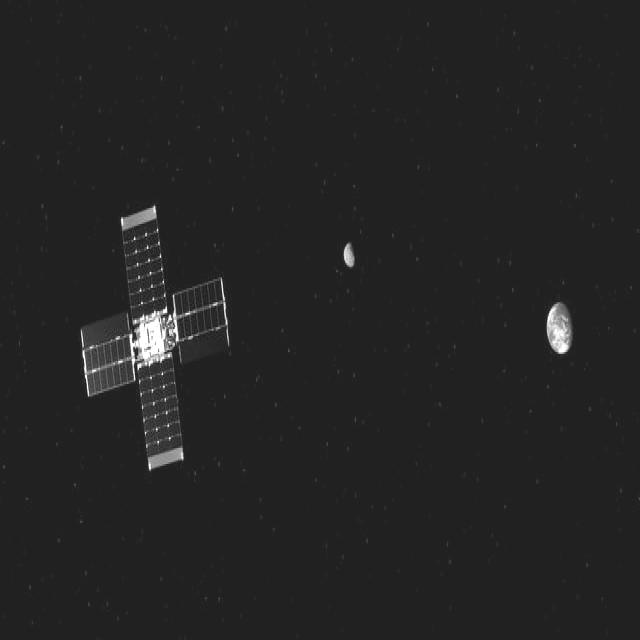satellite: (81, 207, 229, 469)
